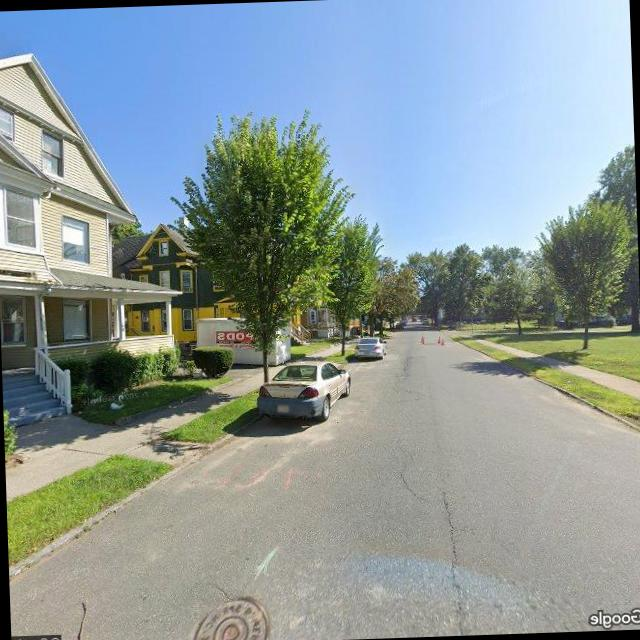pothole: (435, 479, 473, 630), (398, 464, 430, 502)
